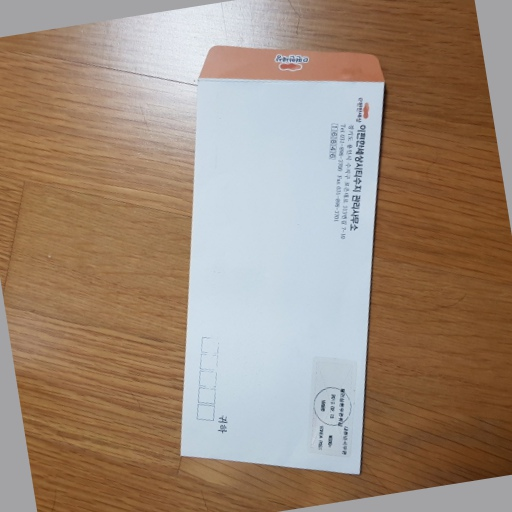Paper_2: (179, 40, 387, 482)
